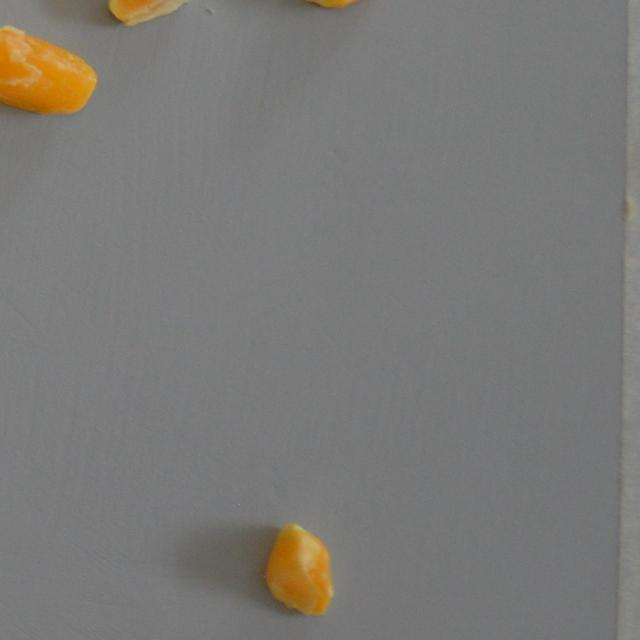estandar: (288, 0, 392, 10)
pelicula: (0, 20, 98, 116), (264, 522, 336, 616), (104, 0, 214, 26)
